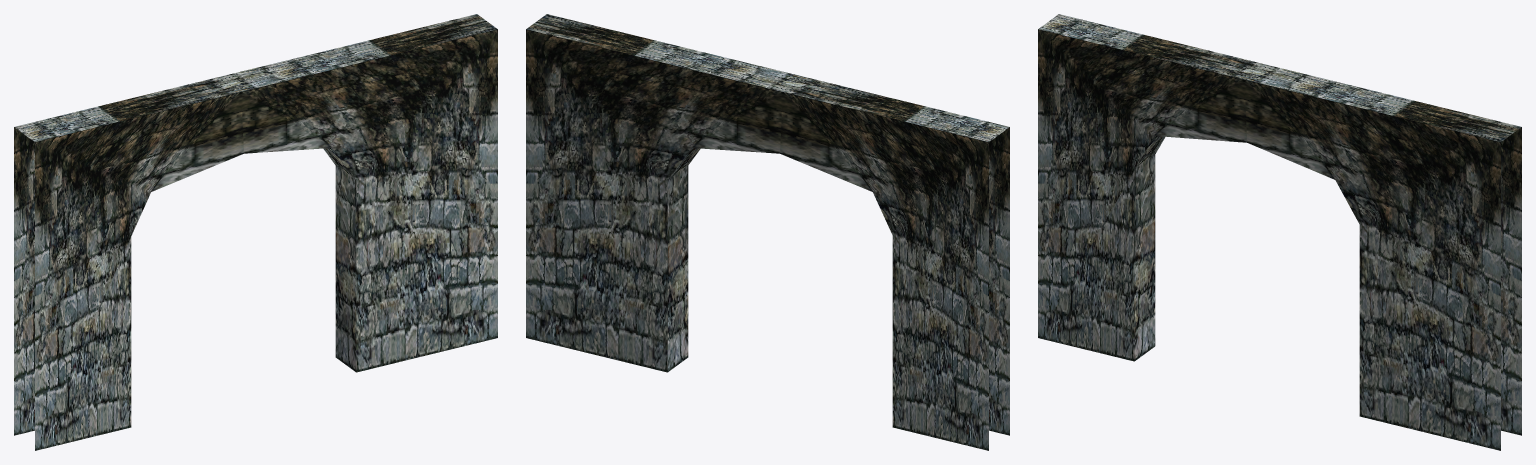
3 views of the same model, side by side, from view 1: azimuth 30°, elevation 25°; view 2: azimuth 150°, elevation 25°; view 3: azimuth 330°, elevation 25° (orthographic).
Visible parts, largest first — view 1: hr_hs1; view 2: hr_hs1; view 3: hr_hs1.
Boxes of the visible parts, box(x1,y1,x2,y2) form: hr_hs1: box(14, 14, 497, 450); hr_hs1: box(526, 14, 1009, 450); hr_hs1: box(1038, 14, 1521, 450).
Bounding box in the file's own units: 6.84 × 4.36 × 0.5338.
Materials: 1 (1 with a texture image).
